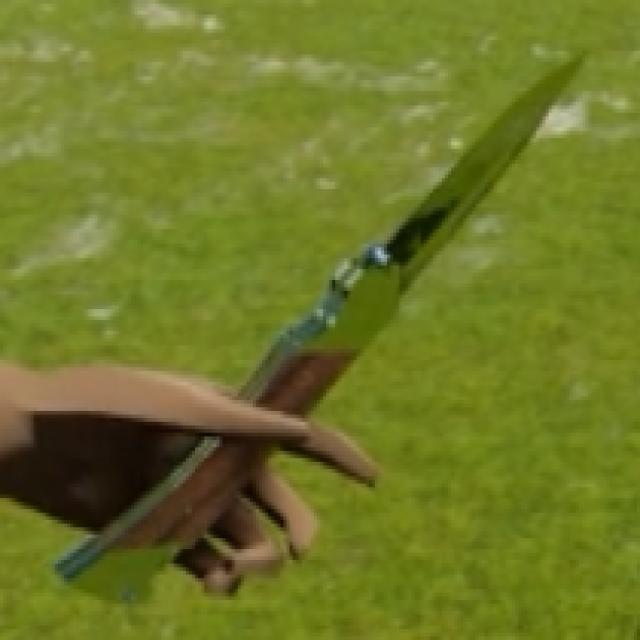knife: (73, 40, 607, 552)
